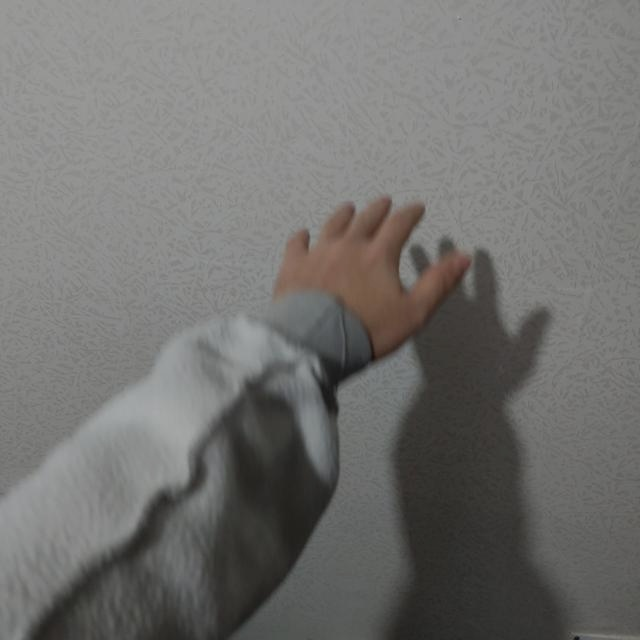hand: (36, 188, 472, 607)
